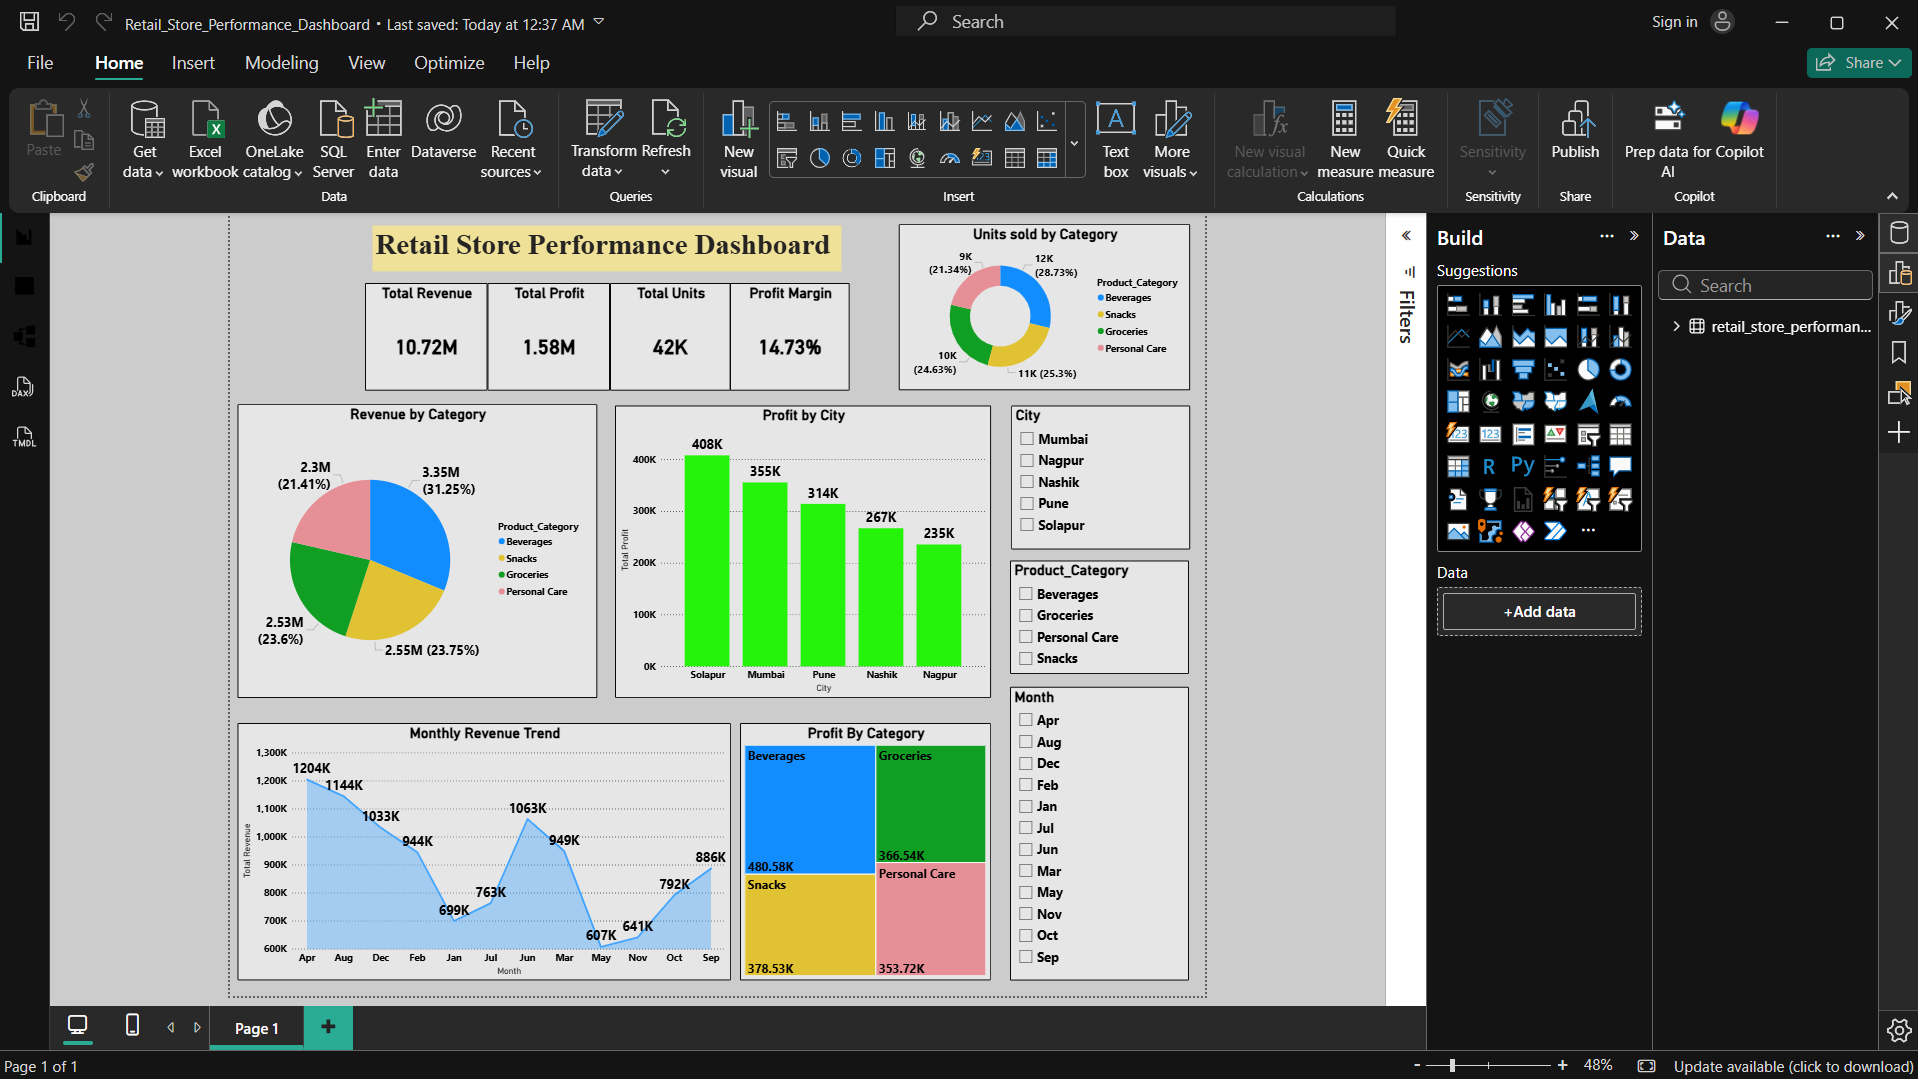

This screenshot's page, from the dashboard's own definition file:
{"tool":"powerbi","page":{"name":"Page 1","canvas":[1630,1310],"ordinal":0},"visuals":[{"type":"card","title":"Profit Margin","fields":{"Values":["retail_store_performance_dataset.Profit Margin"]},"box":[836.9,117.1,200,180],"z":0},{"type":"slicer","title":"City","fields":{"Values":["retail_store_performance_dataset.City"]},"box":[1306.5,322.1,299.6,241],"z":1000},{"type":"card","title":"Total Profit","fields":{"Values":["retail_store_performance_dataset.Total Profit"]},"box":[430.3,117.1,205,180],"z":2000},{"type":"pieChart","title":"Revenue by Category","fields":{"Category":["retail_store_performance_dataset.Product_Category"],"Y":["retail_store_performance_dataset.Total Revenue"]},"box":[13.5,319.9,601.4,491.1],"z":3000},{"type":"card","title":"Total Revenue","fields":{"Values":["retail_store_performance_dataset.Total Revenue"]},"box":[225.3,117.1,205,180],"z":4000},{"type":"areaChart","title":"Monthly Revenue Trend","fields":{"Category":["retail_store_performance_dataset.Month"],"Y":["retail_store_performance_dataset.Total Revenue"]},"box":[13.5,853.7,824.4,430.2],"z":5000},{"type":"card","title":"Total Units","fields":{"Values":["retail_store_performance_dataset.Total Units"]},"box":[635.3,117.1,201.7,180],"z":6000},{"type":"clusteredColumnChart","title":"Profit by City","fields":{"Category":["retail_store_performance_dataset.City"],"Y":["retail_store_performance_dataset.Total Profit"]},"box":[644.2,322.1,628.5,488.8],"z":7000},{"type":"slicer","title":"Product_Category","fields":{"Values":["retail_store_performance_dataset.Product_Category"]},"box":[1304.2,581.2,299.6,189.2],"z":8000},{"type":"slicer","title":"Month","fields":{"Values":["retail_store_performance_dataset.Month"]},"box":[1304.2,792.9,299.6,491.1],"z":9000},{"type":"textbox","box":[238.8,20.3,783.9,76.6],"z":10000},{"type":"treemap","title":"Profit By Category","fields":{"Group":["retail_store_performance_dataset.Product_Category"],"Values":["Sum(retail_store_performance_dataset.Profit)"]},"box":[853.7,853.7,419,430.2],"z":11000},{"type":"donutChart","title":"Units sold by Category","fields":{"Category":["retail_store_performance_dataset.Product_Category"],"Y":["Sum(retail_store_performance_dataset.Units_Sold)"]},"box":[1118.1,19.2,487.4,277.9],"z":12000}]}

Visuals, with their boxes on the page's 1630x1310 design canvas (x1, y1, x2, y2). These are canvas units, not pixel positions in the 1918x1079 screenshot, which may show the page scaled, cropped or inside an application window:
"Profit Margin" card: x1=837 y1=117 x2=1037 y2=297
"City" slicer: x1=1306 y1=322 x2=1606 y2=563
"Total Profit" card: x1=430 y1=117 x2=635 y2=297
"Revenue by Category" pieChart: x1=14 y1=320 x2=615 y2=811
"Total Revenue" card: x1=225 y1=117 x2=430 y2=297
"Monthly Revenue Trend" areaChart: x1=14 y1=854 x2=838 y2=1284
"Total Units" card: x1=635 y1=117 x2=837 y2=297
"Profit by City" clusteredColumnChart: x1=644 y1=322 x2=1273 y2=811
"Product_Category" slicer: x1=1304 y1=581 x2=1604 y2=770
"Month" slicer: x1=1304 y1=793 x2=1604 y2=1284
textbox: x1=239 y1=20 x2=1023 y2=97
"Profit By Category" treemap: x1=854 y1=854 x2=1273 y2=1284
"Units sold by Category" donutChart: x1=1118 y1=19 x2=1606 y2=297
